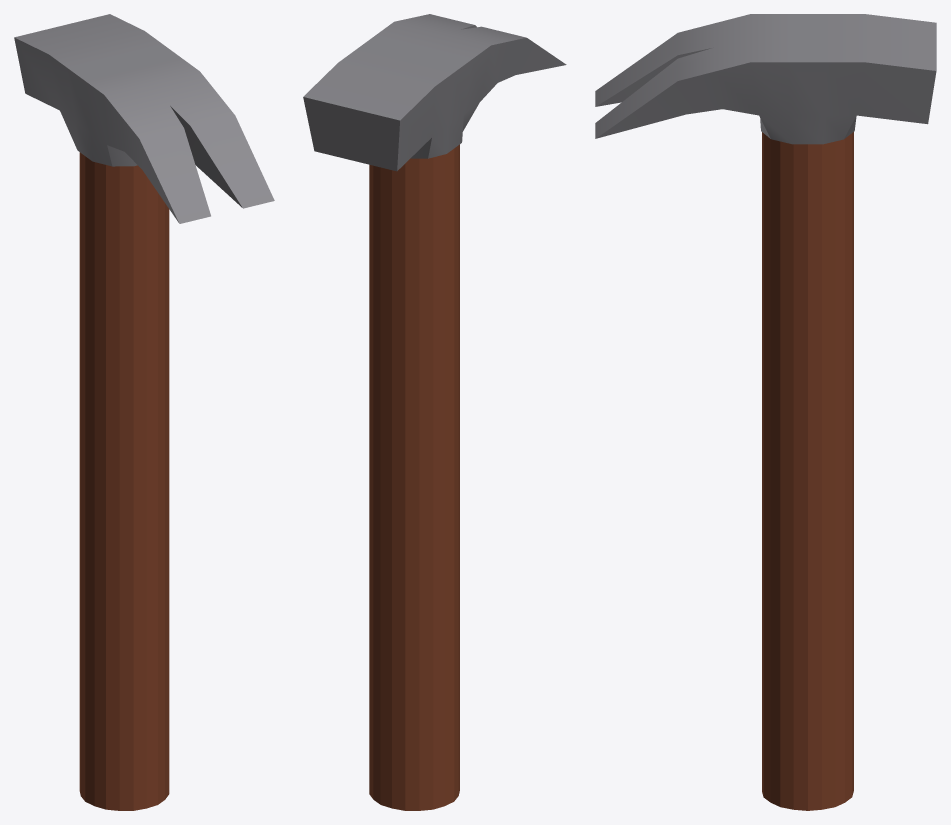
The model's file is Hammer_Einzelobjekt.fbx.
3 views of the same model, side by side, from view 1: azimuth 30°, elevation 25°; view 2: azimuth 150°, elevation 25°; view 3: azimuth 270°, elevation 25° (orthographic). The views are drawn at different scales.
Parts seen in each view (by area): view 1: Cylinder.012; view 2: Cylinder.012; view 3: Cylinder.012.
Boxes of the visible parts, x1=… form: Cylinder.012: x1=14, y1=14, x2=274, y2=810; Cylinder.012: x1=303, y1=14, x2=566, y2=810; Cylinder.012: x1=595, y1=14, x2=936, y2=810.
Bounding box in the file's own units: 4.95 × 35.97 × 14.76.
